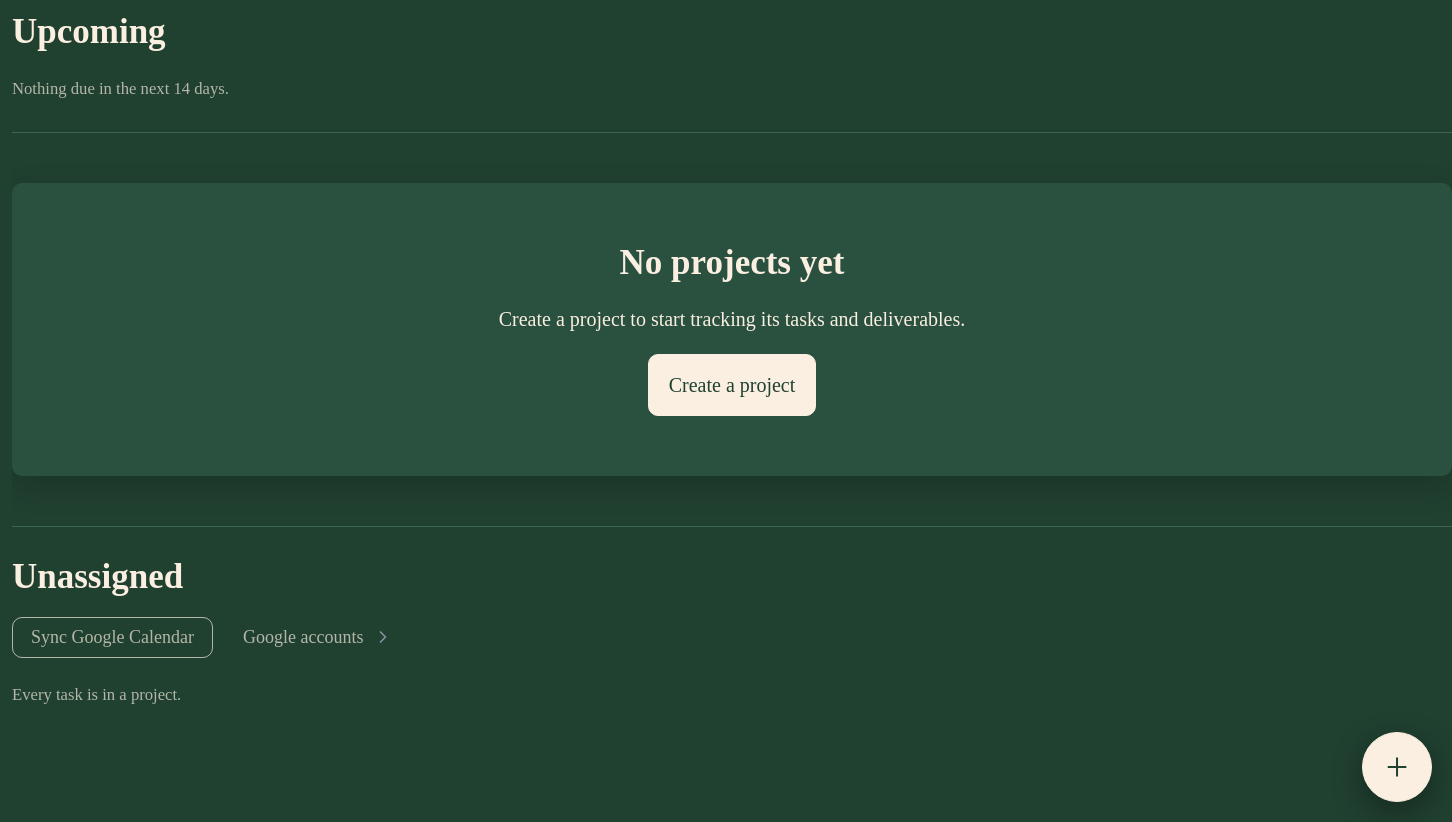
Scenario: Sync Google Calendar › shows an error when the sync fails
Click the button "Sync Google Calendar". click: (112, 637)
box: [12,617,213,658]
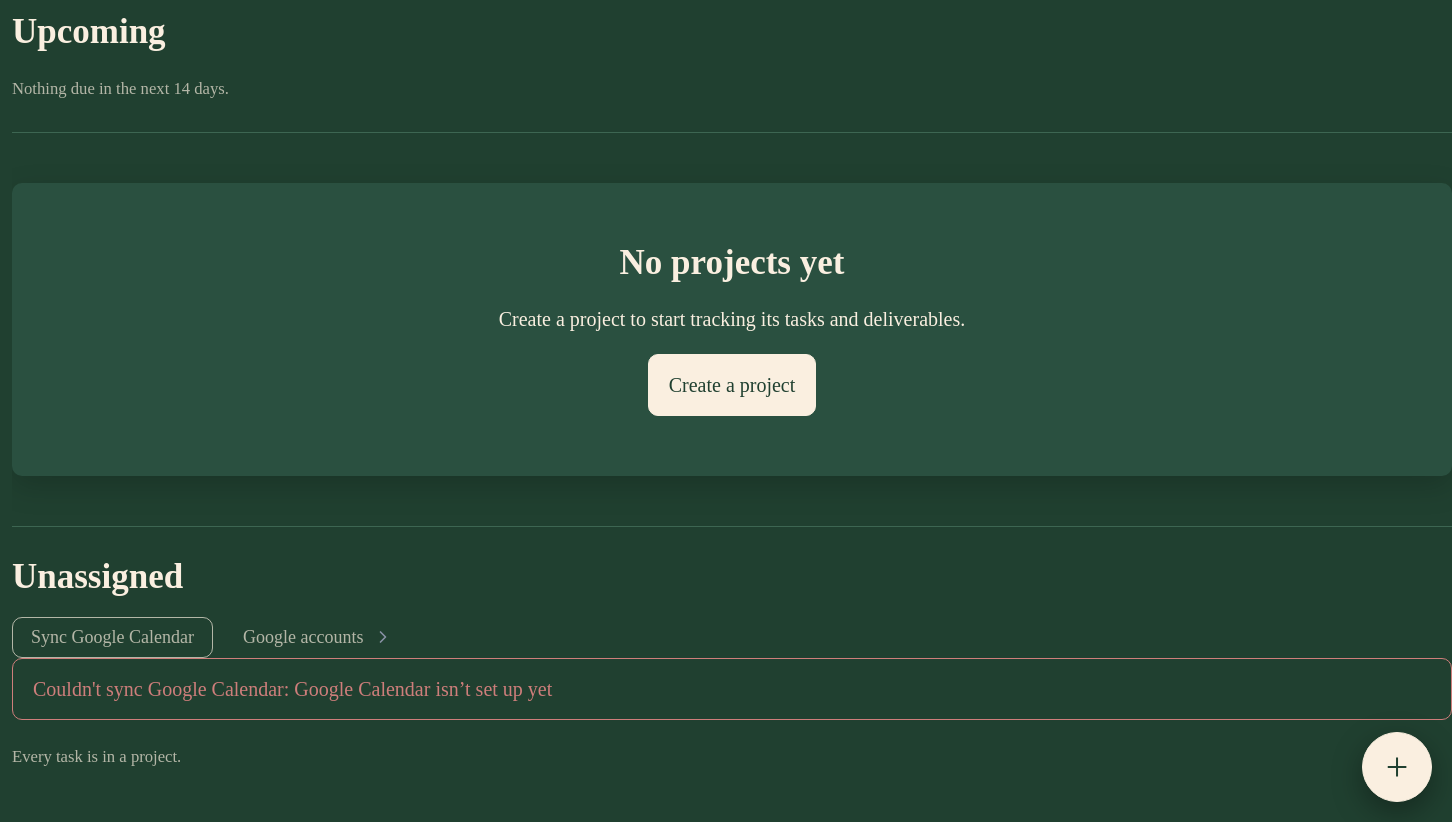
Expected: the message "Couldn't sync Google Calendar: Google Calendar isn’t set up yet" is shown, [12,658,1451,720]
